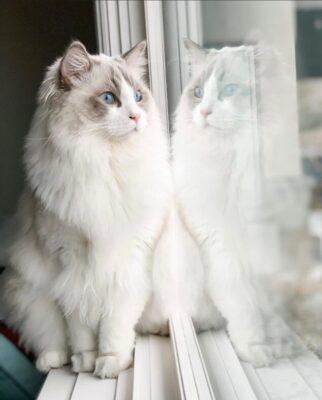ragdoll: (39, 27, 167, 161)
